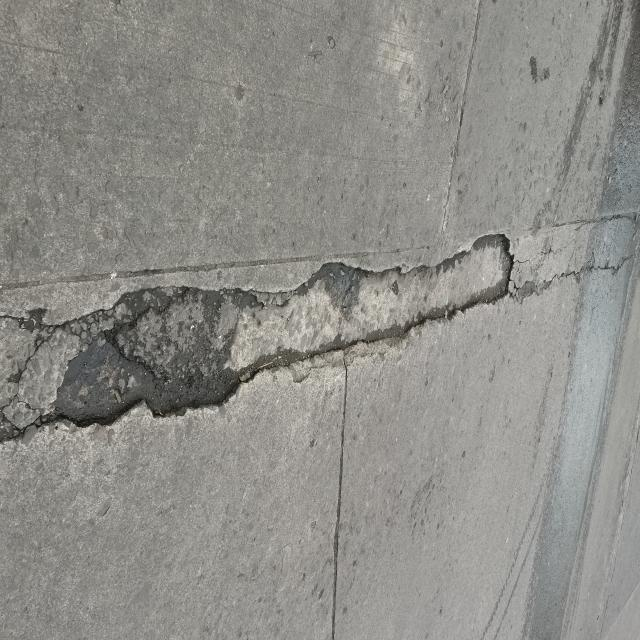pothole: (0, 185, 585, 518)
